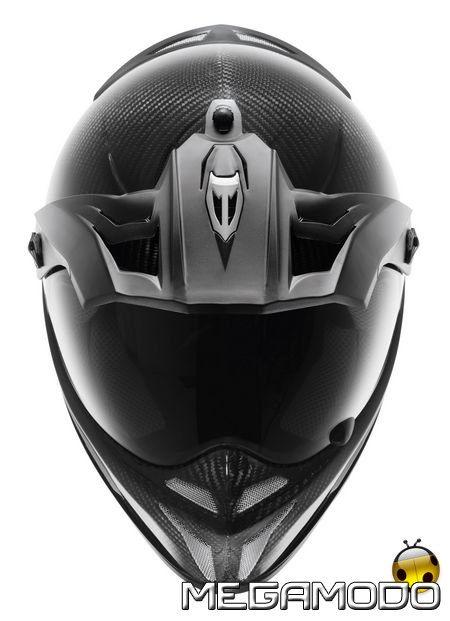helmet: (38, 55, 409, 567)
